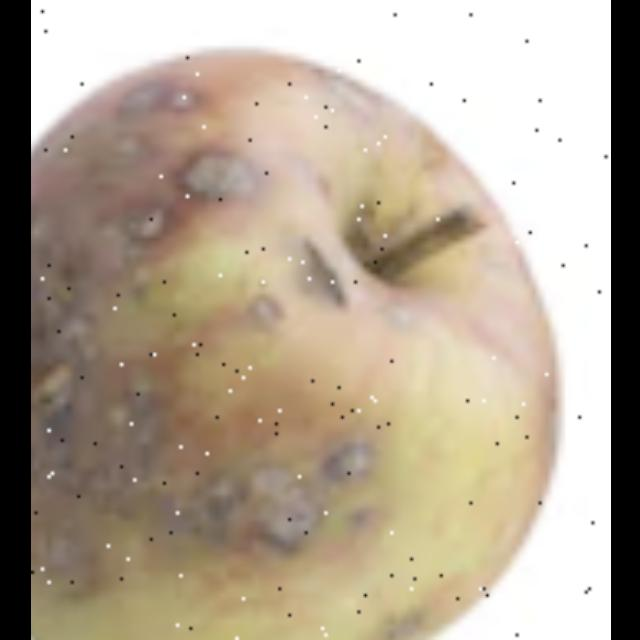Apel Tidak Segar: (29, 35, 564, 640)
